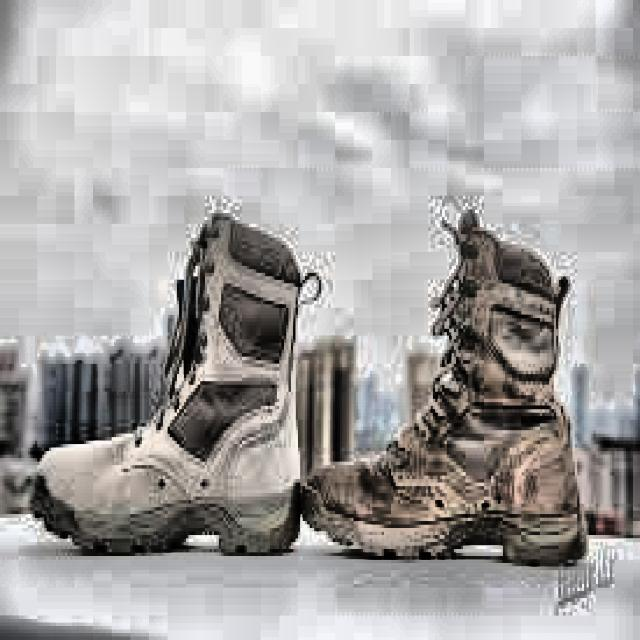shoes: (31, 192, 589, 574)
